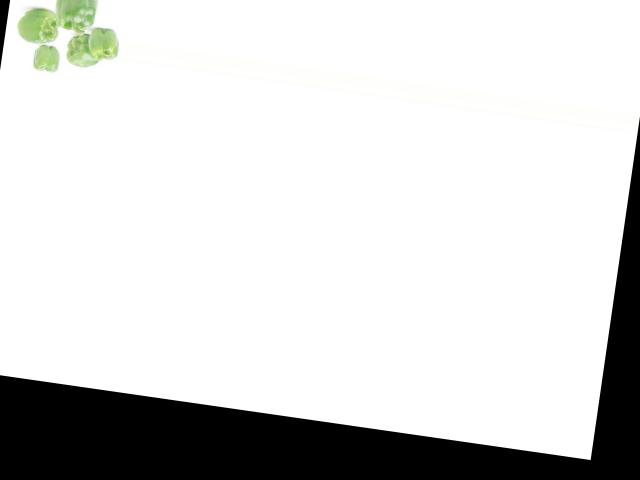bell_pepper: (83, 22, 122, 61)
